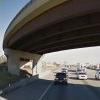Bridge: (3, 0, 96, 63)
